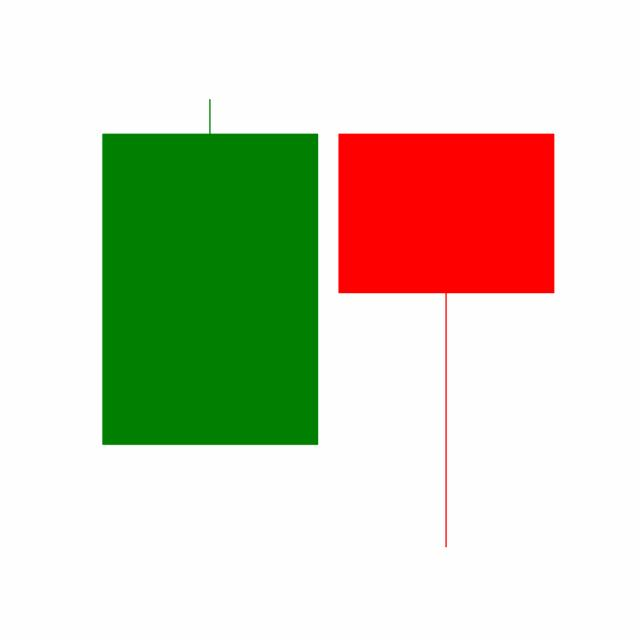Hammer: (327, 129, 565, 552)
